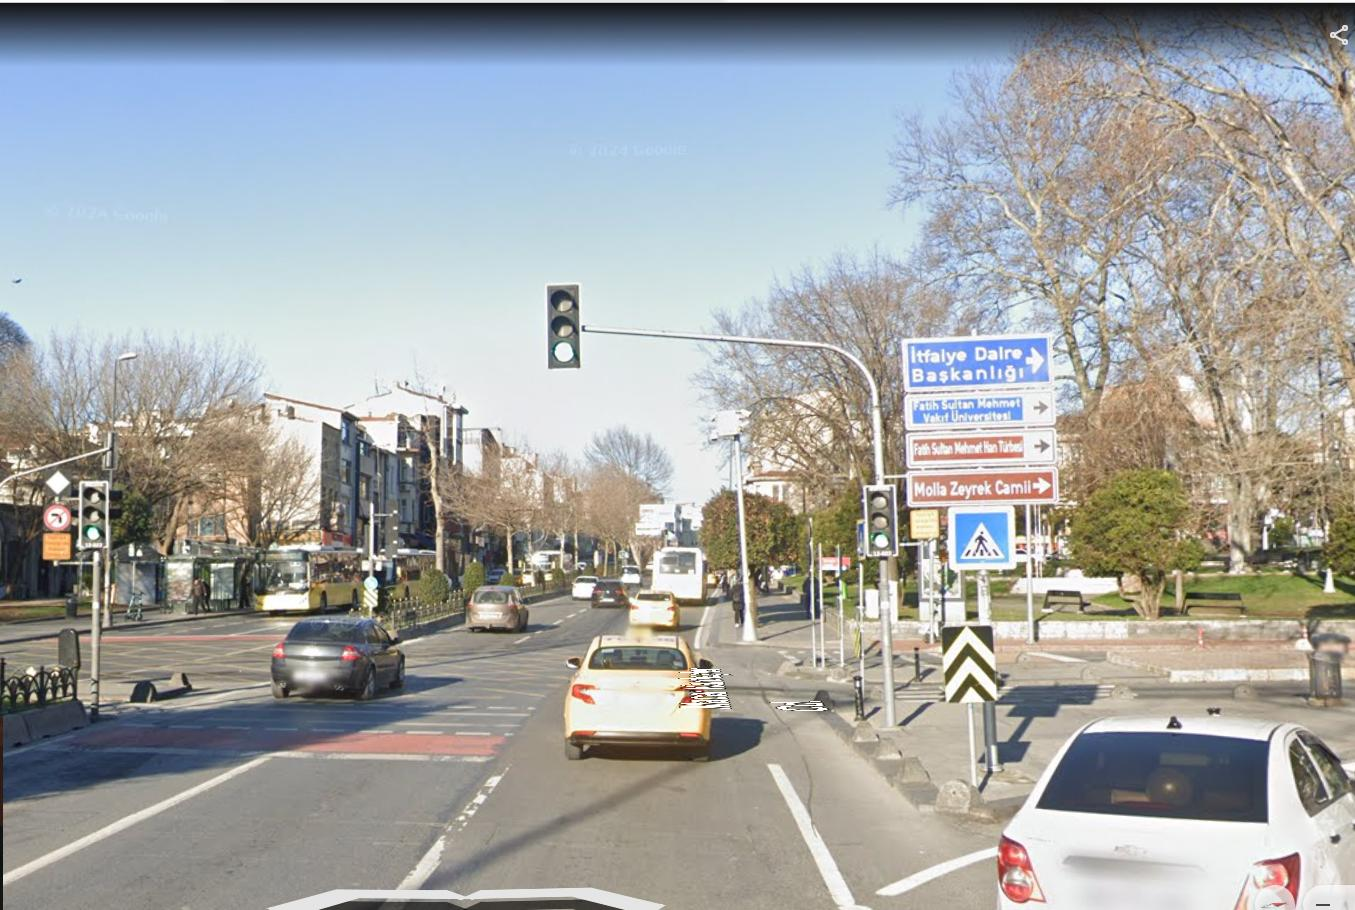greenlight: (549, 283, 581, 363), (866, 487, 893, 550), (80, 479, 107, 539)
leftturnsareforbidden: (46, 506, 67, 525)
